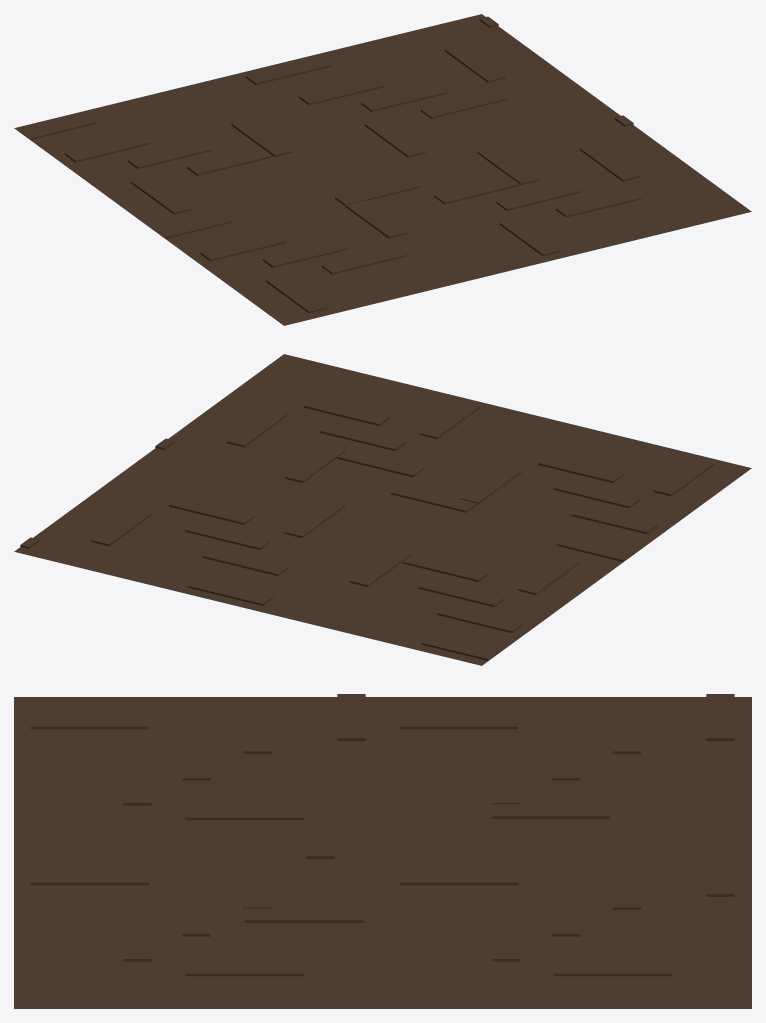
The model's file is dungeon-floor-wood.glb.
3 views of the same model, one above another, from view 1: azimuth 30°, elevation 25°; view 2: azimuth 150°, elevation 25°; view 3: azimuth 270°, elevation 25° (orthographic). The views are drawn at different scales.
Visible parts, largest first — view 1: dungeon-floor-wood; view 2: dungeon-floor-wood; view 3: dungeon-floor-wood.
Part boxes in pixels (x1,y1,x2,y2): dungeon-floor-wood: [14, 14, 751, 325]; dungeon-floor-wood: [14, 354, 751, 665]; dungeon-floor-wood: [14, 694, 751, 1008].
Size of the model in its own units: 4 by 0.018 by 4.
Materials: 1 (1 with a texture image).
